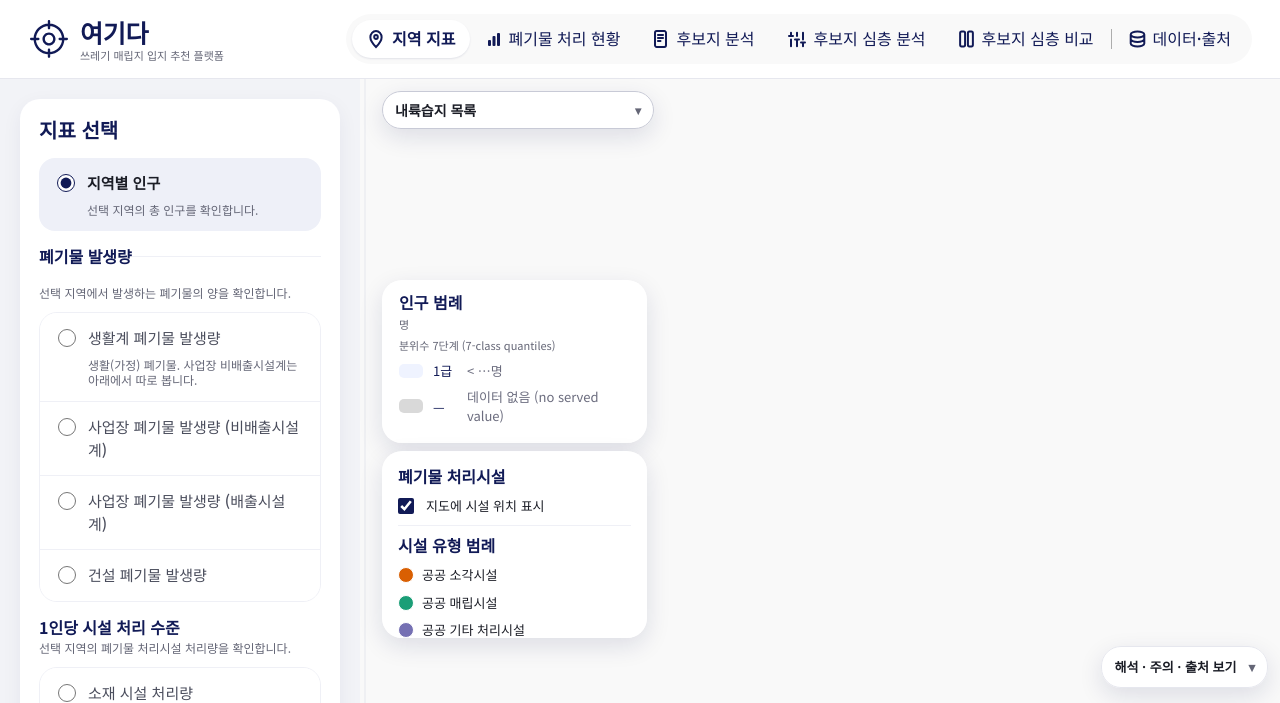
suitability map uses vector tiles, not a limited GeoJSON slice › shows accurate vector-tile wording and drops the '2,000 / total viewport-limit' copy
Click the button with test id "mode-suitability" at (856, 39), box [772,20,941,58]
(page scrolled)
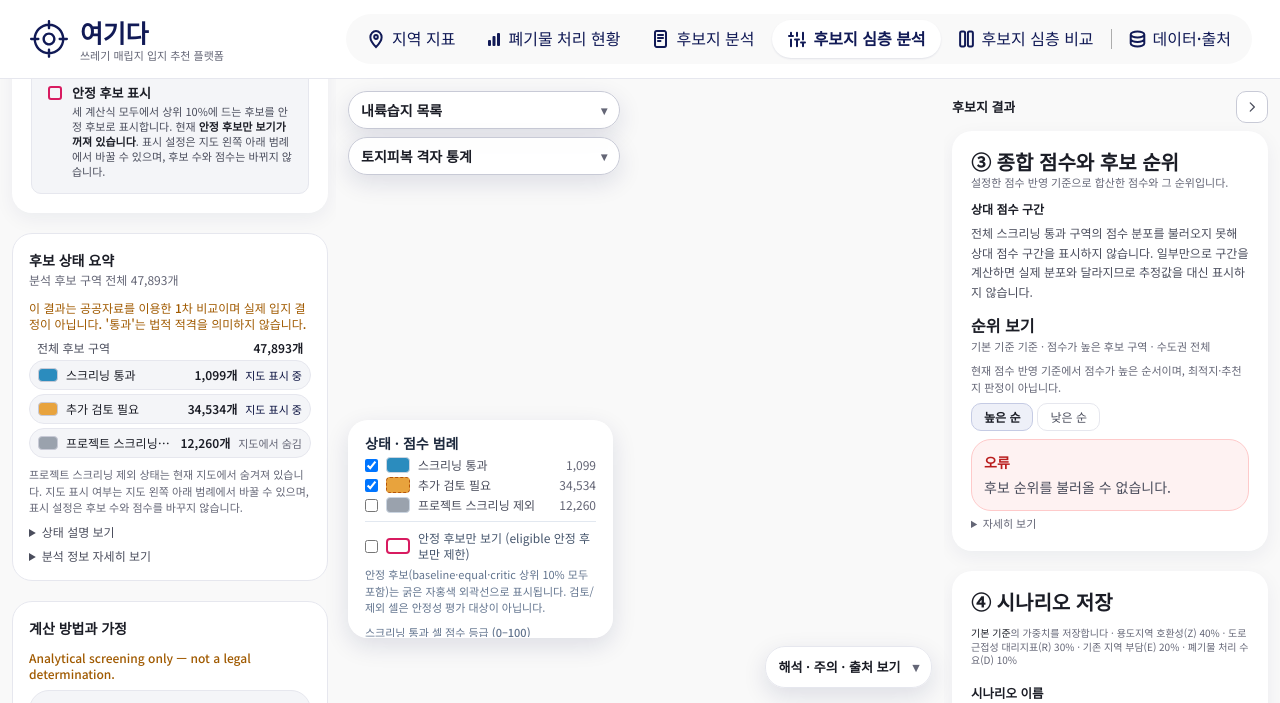
Expected: the element with test id "suitability-summary" is shown, [12,233,328,581]
Expected: the element with test id "candidate-counts" shows "47,893", [253,339,303,356]
